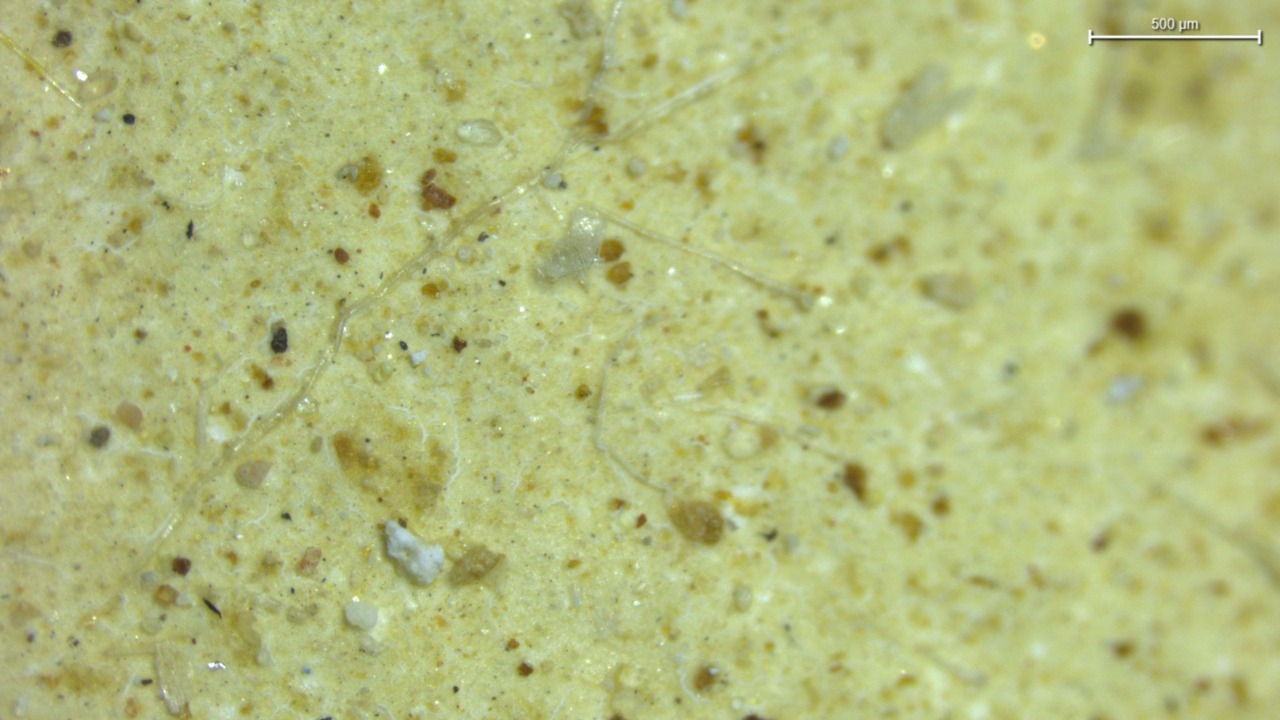microplastic_fragment: (536, 206, 607, 293), (378, 518, 445, 586), (344, 604, 382, 630)
